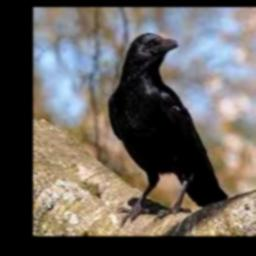Crow: (108, 33, 228, 223)
